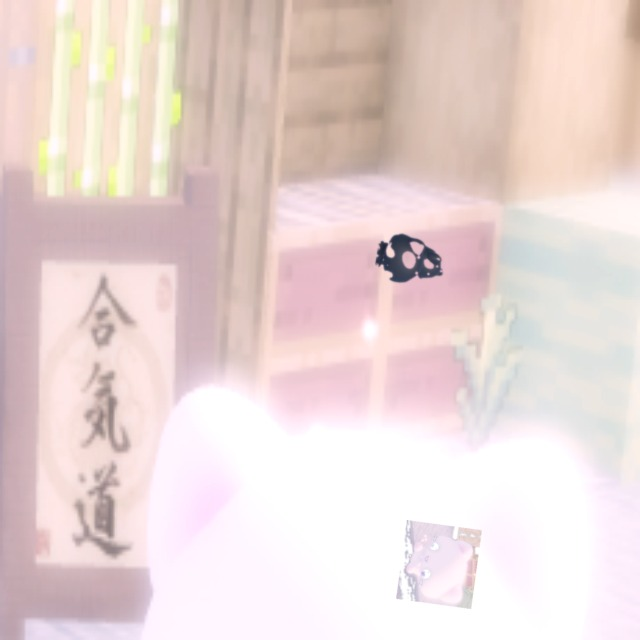urso_branco: (396, 520, 482, 609)
urso_preto: (372, 228, 453, 295)
